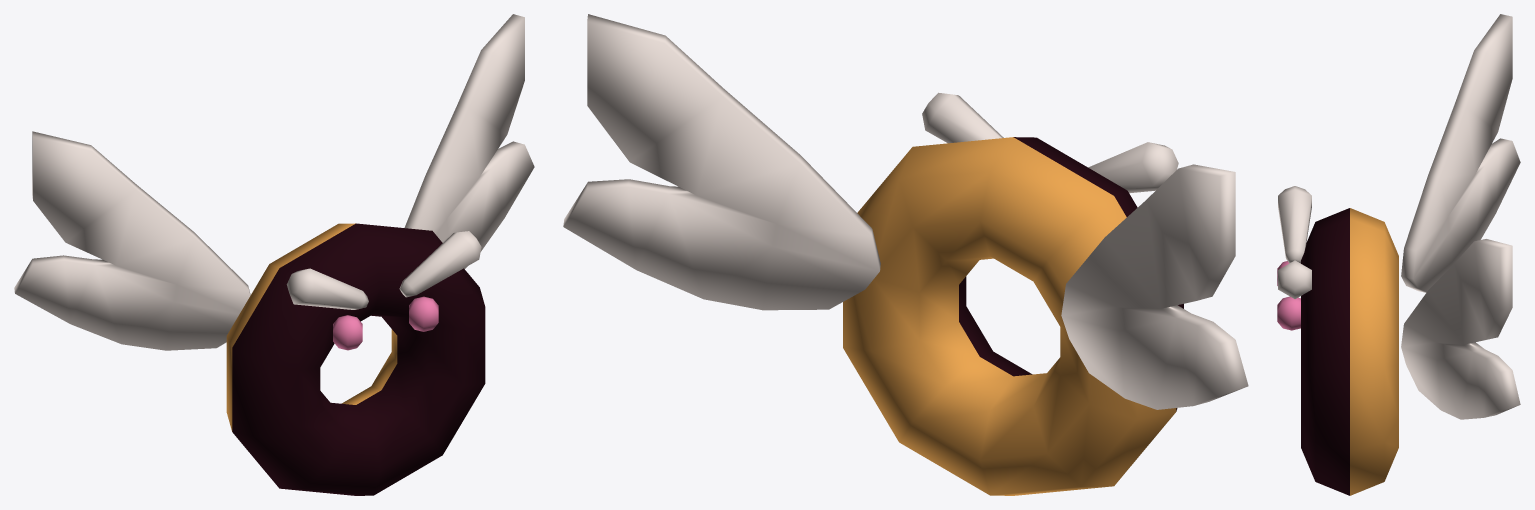
File: DonutFlyNYX.fbx
3 renders of one model, left to right at view 1: azimuth 30°, elevation 25°; view 2: azimuth 150°, elevation 25°; view 3: azimuth 270°, elevation 25°, orthographic. The views are drawn at different scales.
Parts seen in each view (by area): view 1: Donut; view 2: Donut; view 3: Donut.
Part boxes in pixels (<box>): Donut: <box>14,14,534,495</box>; Donut: <box>563,14,1248,495</box>; Donut: <box>1277,14,1520,495</box>.
Bounding box in the file's own units: 2.99 × 1.99 × 1.24.
